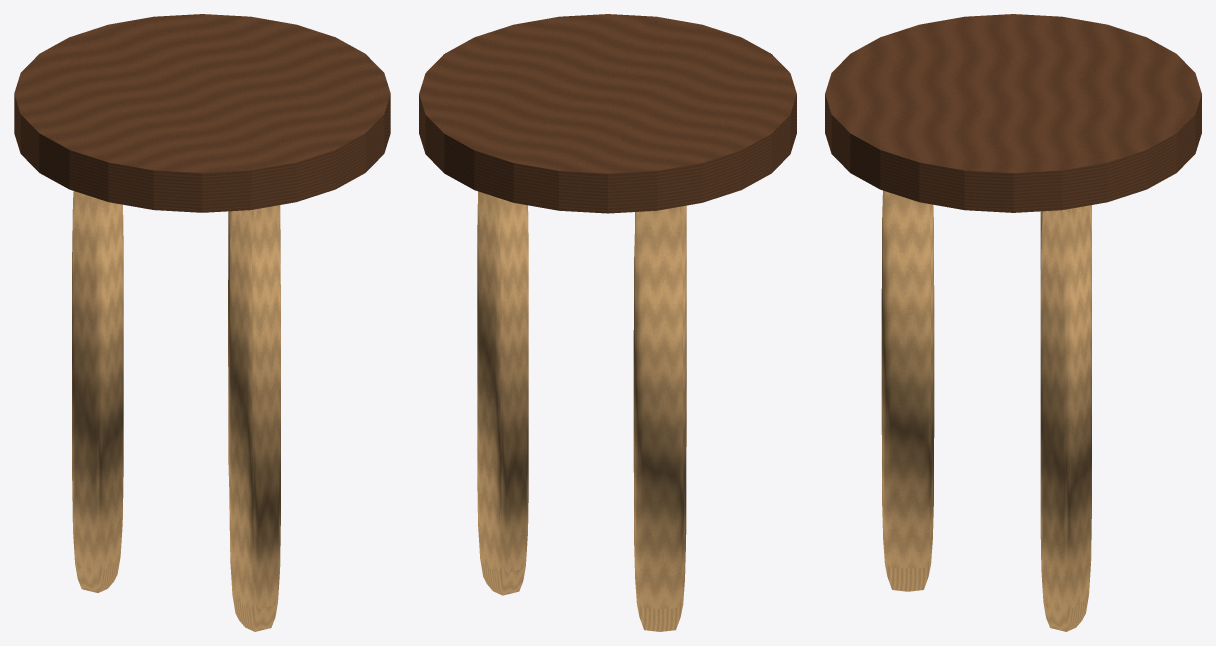
3 views of the same model, side by side, from view 1: azimuth 30°, elevation 25°; view 2: azimuth 150°, elevation 25°; view 3: azimuth 270°, elevation 25° (orthographic).
Visible parts, largest first — view 1: 1 tabletop, 2 front_leg, 3 back_left_leg, 4 back_right_leg; view 2: 1 tabletop, 3 back_left_leg, 4 back_right_leg; view 3: 1 tabletop, 4 back_right_leg, 2 front_leg.
Boxes of the visible parts, x1,y1,x2,y2 form: 1 tabletop: (14, 14, 390, 212); 2 front_leg: (229, 205, 280, 631); 3 back_left_leg: (72, 191, 123, 592); 4 back_right_leg: (228, 205, 280, 486); 1 tabletop: (419, 14, 796, 213); 3 back_left_leg: (633, 206, 686, 631); 4 back_right_leg: (477, 191, 528, 595); 1 tabletop: (825, 14, 1201, 212); 4 back_right_leg: (1040, 205, 1091, 631); 2 front_leg: (881, 190, 934, 591).
Bounding box in the file's own units: 0.6875 × 1 × 0.6875.
Materials: 2 (2 with a texture image).
